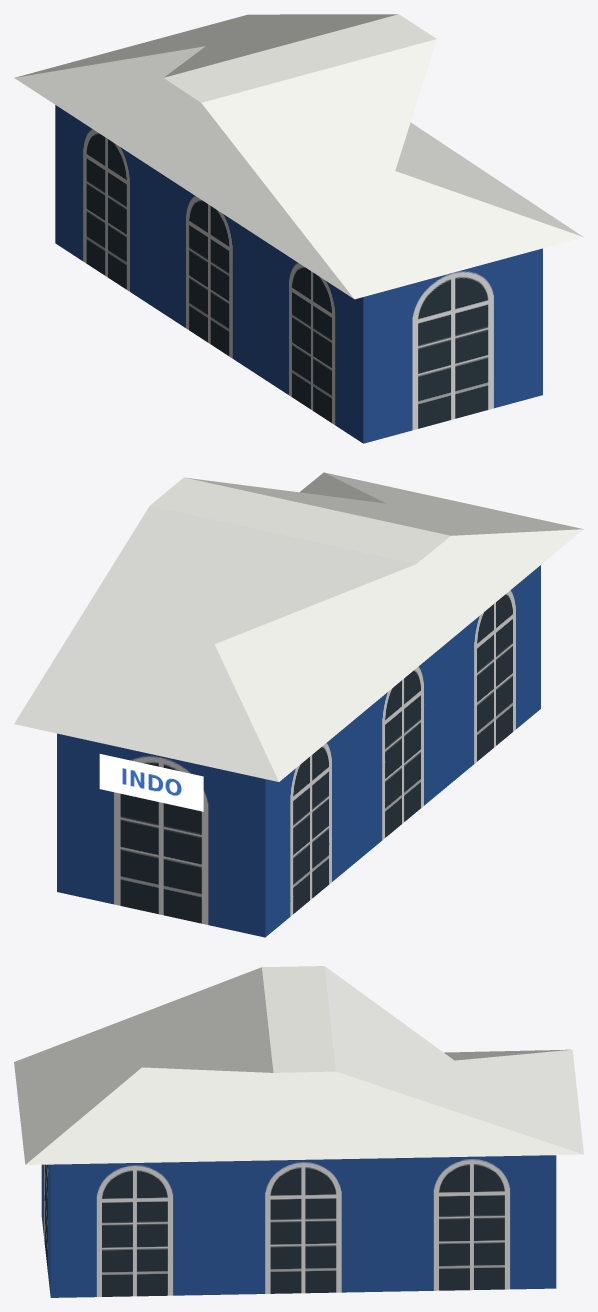
File: indo_nd.glb
3 renders of one model, top to bottom at view 1: azimuth 30°, elevation 25°; view 2: azimuth 150°, elevation 25°; view 3: azimuth 270°, elevation 25°, orthographic. The views are drawn at different scales.
Parts seen in each view (by area): view 1: indo_nd_lod0; view 2: indo_nd_lod0; view 3: indo_nd_lod0.
Boxes of the visible parts, x1,y1,x2,y2 form: indo_nd_lod0: (14,14,583,443); indo_nd_lod0: (14,472,583,937); indo_nd_lod0: (14,966,583,1297).
Size of what is drawn, in the model's own units: 6.16 by 5.8 by 12.85.
4 materials, 2 textured.
